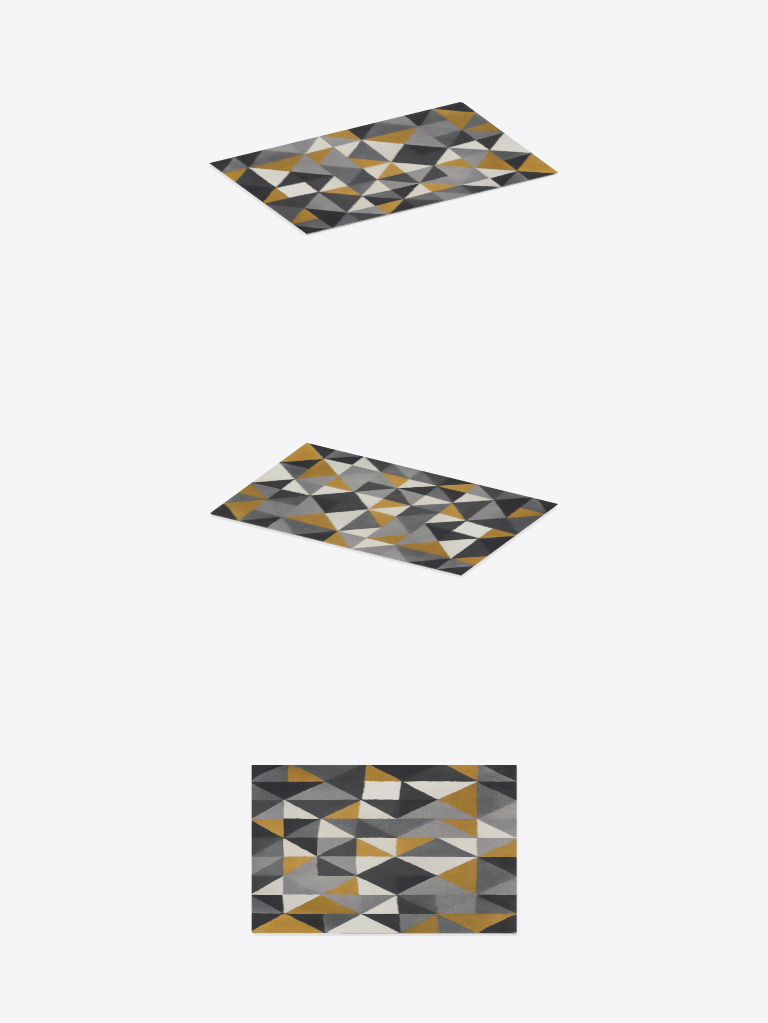
The picture shows the model from 3 angles, top to bottom: view 1: azimuth 30°, elevation 25°; view 2: azimuth 150°, elevation 25°; view 3: azimuth 270°, elevation 25°; orthographic projection. The views are drawn at different scales.
Visible parts, largest first — view 1: Henrik_Hand_Tufted_Wool_Rug_Grey_and_RedMulti_120x180cm_HENR, Plane001; view 2: Henrik_Hand_Tufted_Wool_Rug_Grey_and_RedMulti_120x180cm_HENR, Plane001; view 3: Henrik_Hand_Tufted_Wool_Rug_Grey_and_RedMulti_120x180cm_HENR, Plane001.
Part boxes in pixels (left/top/right/bottom): Henrik_Hand_Tufted_Wool_Rug_Grey_and_RedMulti_120x180cm_HENR: left=209, top=101, right=557, bottom=234; Plane001: left=209, top=165, right=555, bottom=235; Henrik_Hand_Tufted_Wool_Rug_Grey_and_RedMulti_120x180cm_HENR: left=209, top=442, right=557, bottom=575; Plane001: left=210, top=506, right=556, bottom=577; Henrik_Hand_Tufted_Wool_Rug_Grey_and_RedMulti_120x180cm_HENR: left=251, top=765, right=516, bottom=933; Plane001: left=253, top=768, right=518, bottom=935.
Size of the model in its own units: 445 by 2.46 by 445.
2 materials, 2 textured.
